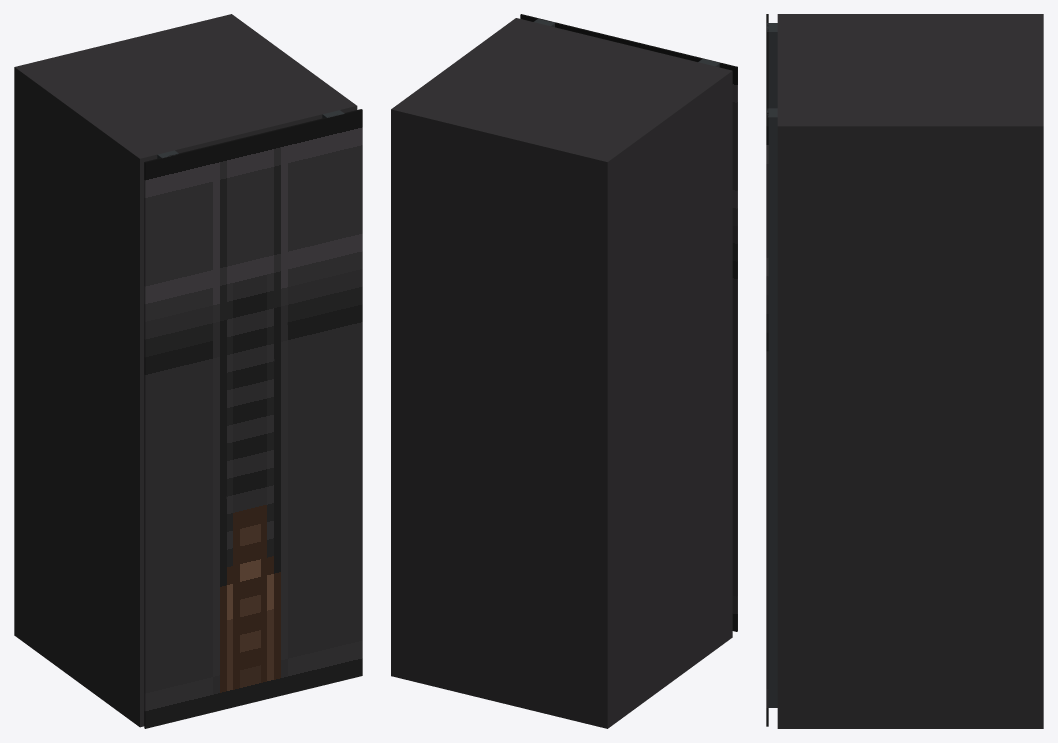
File: CMU3DReduxRMCWallElevatorGearAnimated.glb
3 renders of one model, left to right at view 1: azimuth 30°, elevation 25°; view 2: azimuth 150°, elevation 25°; view 3: azimuth 270°, elevation 25°, orthographic. The views are drawn at different scales.
Visible parts, largest first — view 1: source face, elevator shaft wall; view 2: elevator shaft wall, source face; view 3: elevator shaft wall, lift guide rail (×2), source face.
Part boxes in pixels (<box>): source face: <box>144,109,362,728</box>; elevator shaft wall: <box>14,14,357,727</box>; elevator shaft wall: <box>391,18,732,728</box>; source face: <box>520,14,737,631</box>; elevator shaft wall: <box>777,14,1043,728</box>; lift guide rail (×2): <box>767,23,777,707</box>; source face: <box>766,14,768,726</box>.
Bounding box in the file's own units: 1 × 2.5 × 1.04.
Materials: 3 (1 with a texture image).
